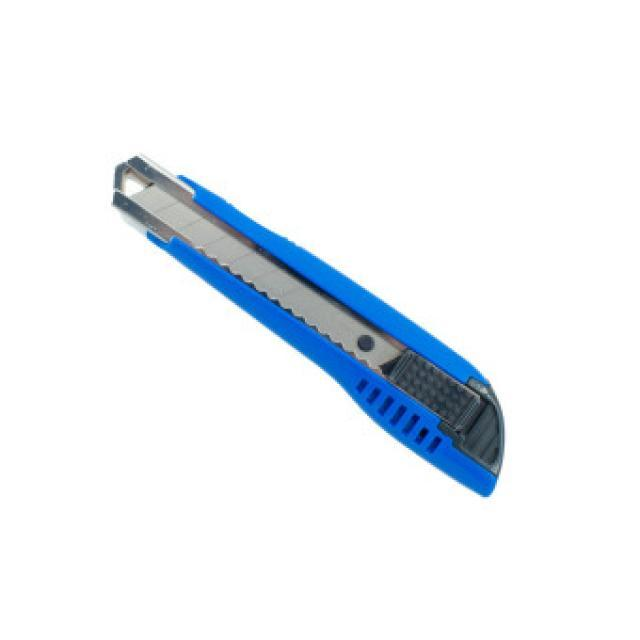cutter: (110, 150, 510, 508)
